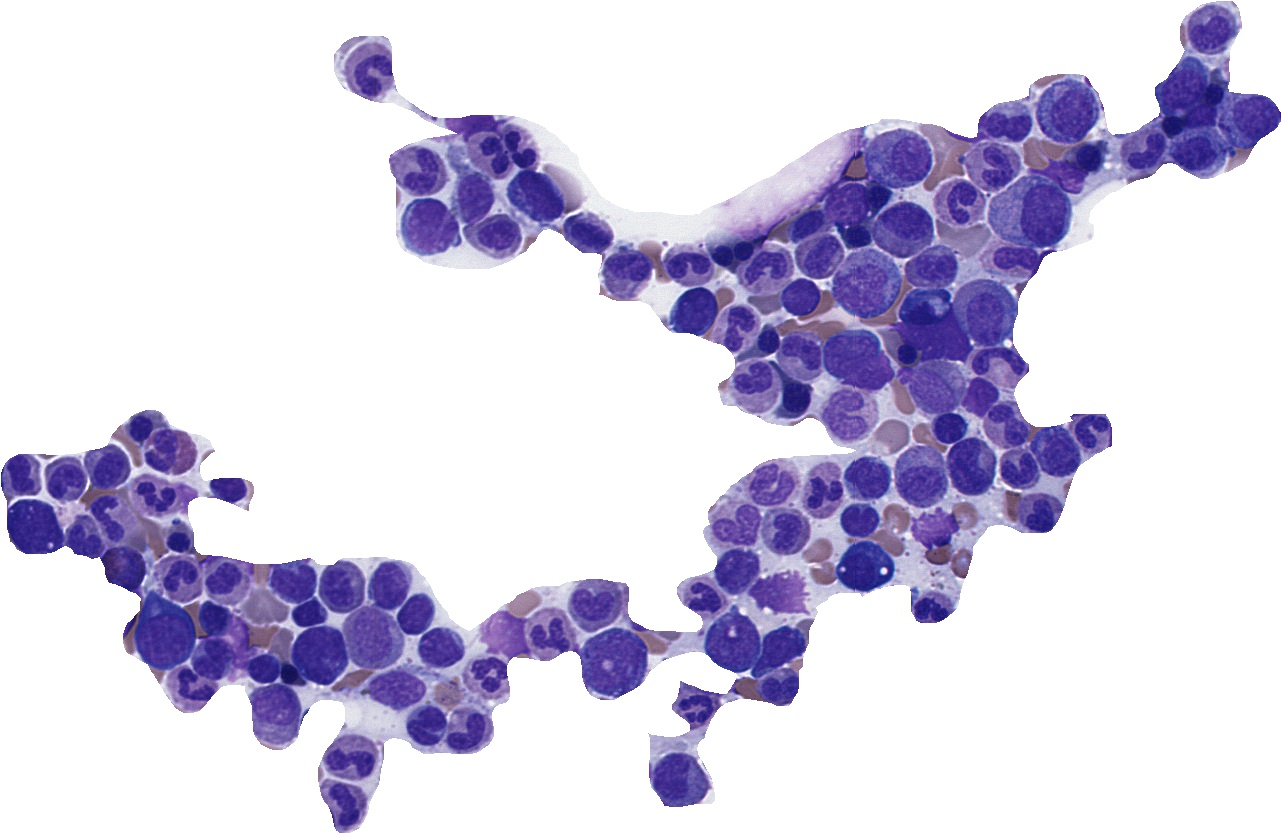objectness: (839, 539, 889, 589), (980, 98, 1030, 148), (266, 554, 316, 604), (400, 700, 450, 750), (188, 638, 238, 688), (706, 302, 756, 352), (462, 128, 512, 178), (324, 731, 374, 781), (126, 474, 176, 524), (493, 122, 543, 172), (163, 663, 213, 713), (745, 458, 795, 508), (663, 239, 713, 289), (681, 573, 731, 623), (1062, 408, 1112, 458), (740, 242, 790, 292), (908, 580, 958, 630), (319, 779, 369, 829), (674, 684, 724, 734), (712, 501, 762, 551), (86, 498, 136, 548), (524, 612, 574, 662), (933, 178, 983, 228), (466, 649, 516, 699), (974, 338, 1024, 388), (797, 467, 847, 517), (343, 43, 393, 93), (81, 443, 131, 493), (873, 131, 923, 181), (317, 564, 367, 614), (602, 247, 652, 297), (878, 205, 928, 255), (947, 438, 997, 488), (1185, 4, 1235, 54), (249, 688, 299, 738), (895, 451, 945, 501), (344, 614, 394, 664), (909, 244, 959, 294), (653, 755, 703, 805), (470, 207, 520, 257), (793, 230, 843, 280), (560, 208, 610, 258), (912, 362, 962, 412), (96, 542, 146, 592), (147, 428, 197, 478), (756, 663, 806, 713), (970, 142, 1020, 192), (441, 706, 491, 756), (1121, 125, 1171, 175), (38, 456, 88, 506), (822, 391, 872, 441), (780, 328, 830, 378), (732, 362, 782, 412), (58, 513, 108, 563), (978, 399, 1028, 449), (1013, 490, 1063, 540), (984, 234, 1034, 284), (995, 446, 1045, 496), (153, 551, 203, 601), (200, 558, 250, 608), (566, 579, 616, 629), (394, 148, 444, 198), (763, 510, 813, 560), (9, 501, 59, 551), (709, 620, 759, 670), (295, 630, 345, 680), (591, 637, 641, 687), (822, 326, 872, 376), (401, 200, 451, 250), (758, 621, 808, 671), (1173, 128, 1223, 178), (1191, 62, 1241, 112), (908, 313, 958, 363), (898, 280, 948, 330), (831, 212, 881, 262), (265, 651, 315, 701), (823, 177, 873, 227), (1221, 95, 1271, 145), (835, 494, 885, 544), (510, 170, 560, 220), (281, 589, 331, 639), (781, 198, 831, 248), (924, 403, 974, 453), (909, 503, 959, 553), (1174, 91, 1224, 141), (848, 349, 898, 399), (1036, 149, 1086, 199), (1149, 98, 1199, 148), (481, 608, 531, 658), (237, 644, 287, 694), (448, 173, 498, 223), (444, 98, 494, 148), (374, 665, 424, 715), (710, 545, 760, 595), (955, 371, 1005, 421), (393, 589, 443, 639), (840, 453, 890, 503), (774, 271, 824, 321), (363, 562, 413, 612), (416, 623, 466, 673), (202, 464, 252, 514), (666, 287, 716, 337), (742, 316, 792, 366), (1062, 129, 1112, 179), (134, 607, 184, 657), (772, 373, 822, 423), (187, 592, 237, 642), (152, 512, 202, 562), (717, 226, 767, 276), (114, 401, 164, 451), (696, 230, 746, 280), (1158, 65, 1208, 115), (1031, 427, 1081, 477), (879, 328, 929, 378), (837, 258, 887, 308), (1042, 84, 1092, 134), (1003, 188, 1053, 238), (0, 451, 43, 501)
